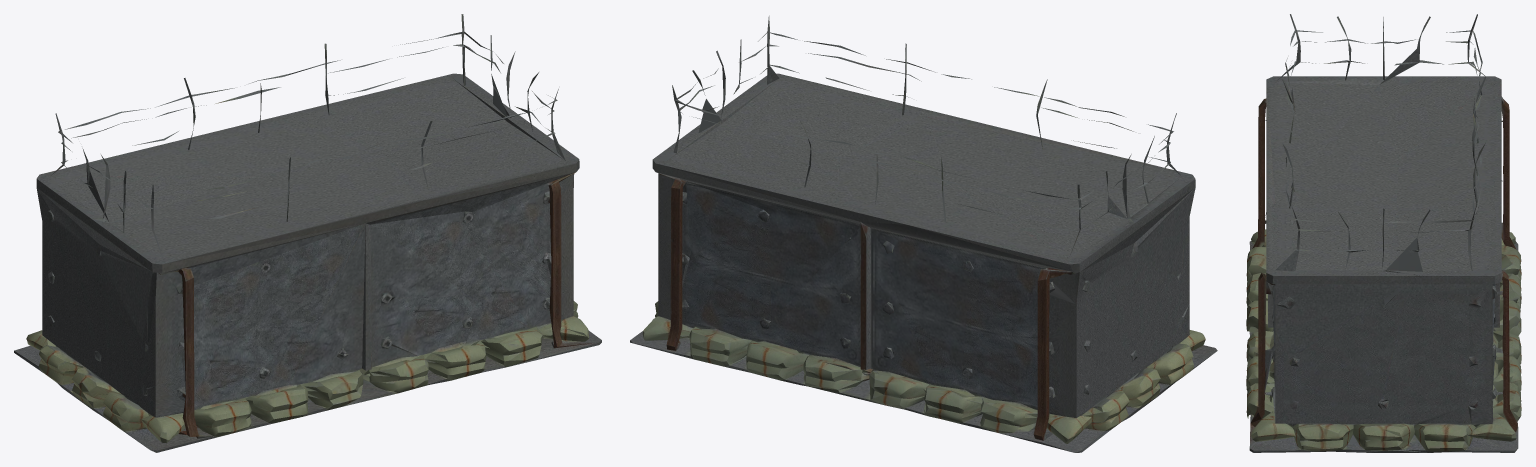
The model's file is barricade_steel.glb.
3 renders of one model, left to right at view 1: azimuth 30°, elevation 25°; view 2: azimuth 150°, elevation 25°; view 3: azimuth 270°, elevation 25°, orthographic. The views are drawn at different scales.
Size of the model in its own units: 1.9 by 0.9885 by 1.03.
Materials: 1 (1 with a texture image).
